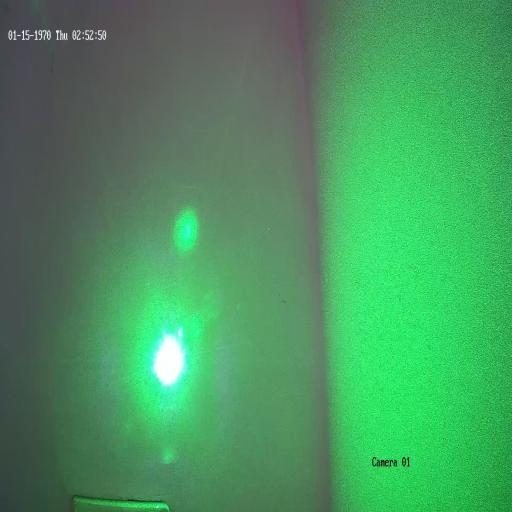laser: (147, 314, 191, 396)
